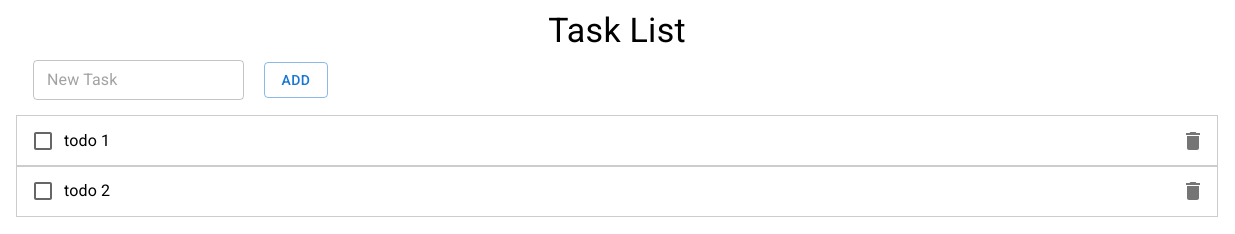
Test: todos › update todos
Click the text "todo 1" at [87, 140], box x1=64 y1=131 x2=110 y2=150
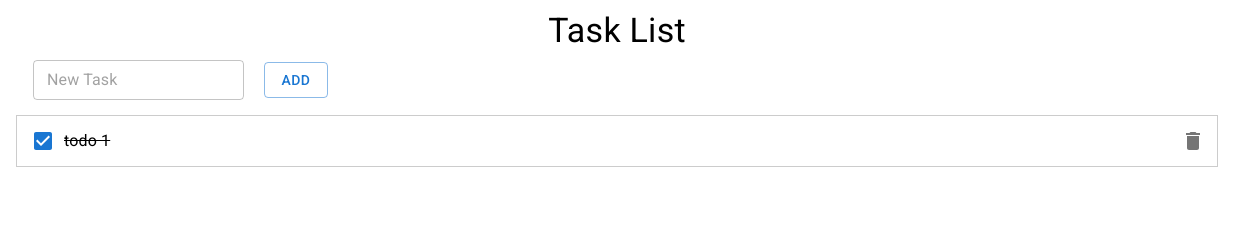
Now the checkbox labelled "todo 1" is checked, box x1=31 y1=129 x2=110 y2=153
